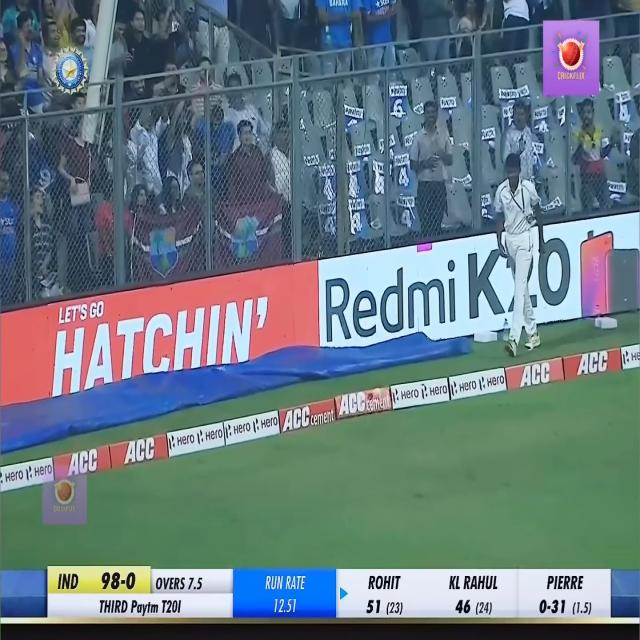fully_visible: (129, 594, 160, 620)
partially_visible: (343, 95, 367, 125), (498, 84, 522, 104), (384, 82, 413, 96)
